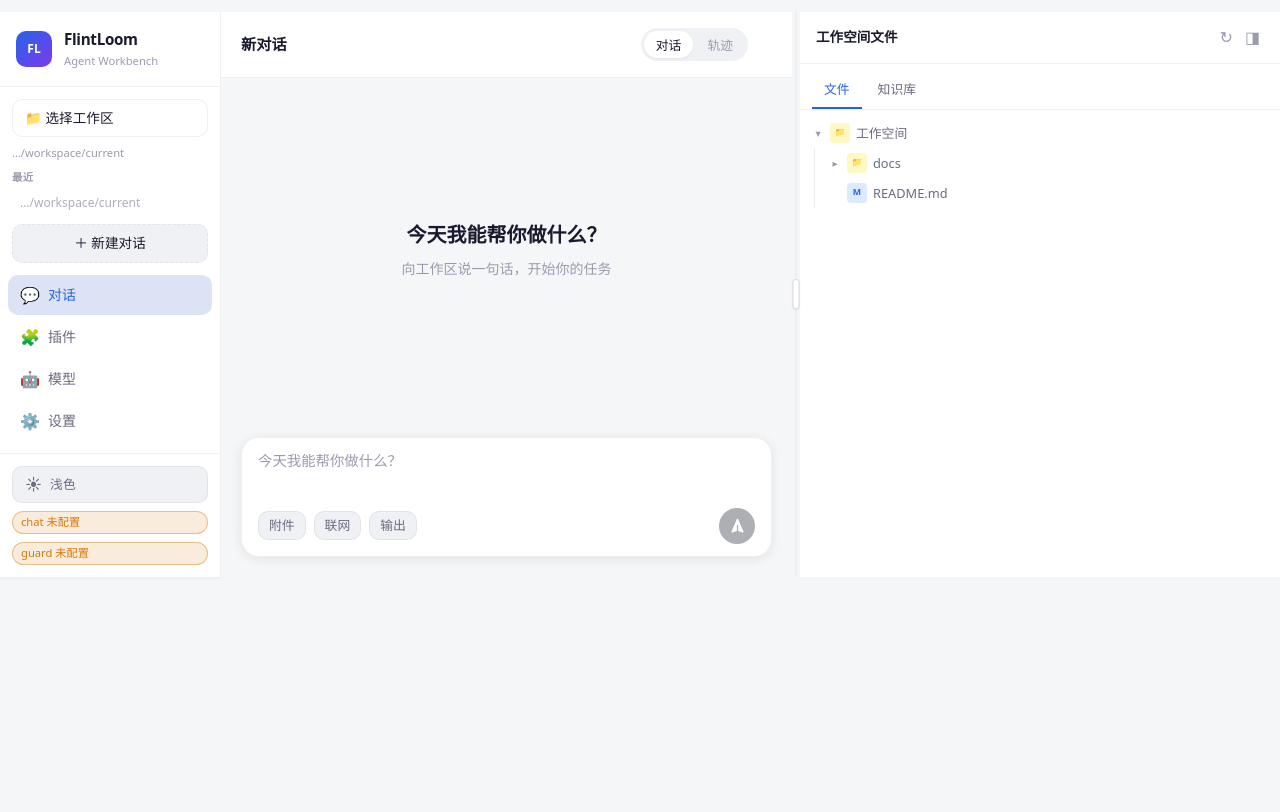
Test: App › shows folder context menu with move on right-click
The width and height of the screenshot is (1280, 812).
Right-click the list item with class "file-label" at (835, 163), box [821,148,1276,178]
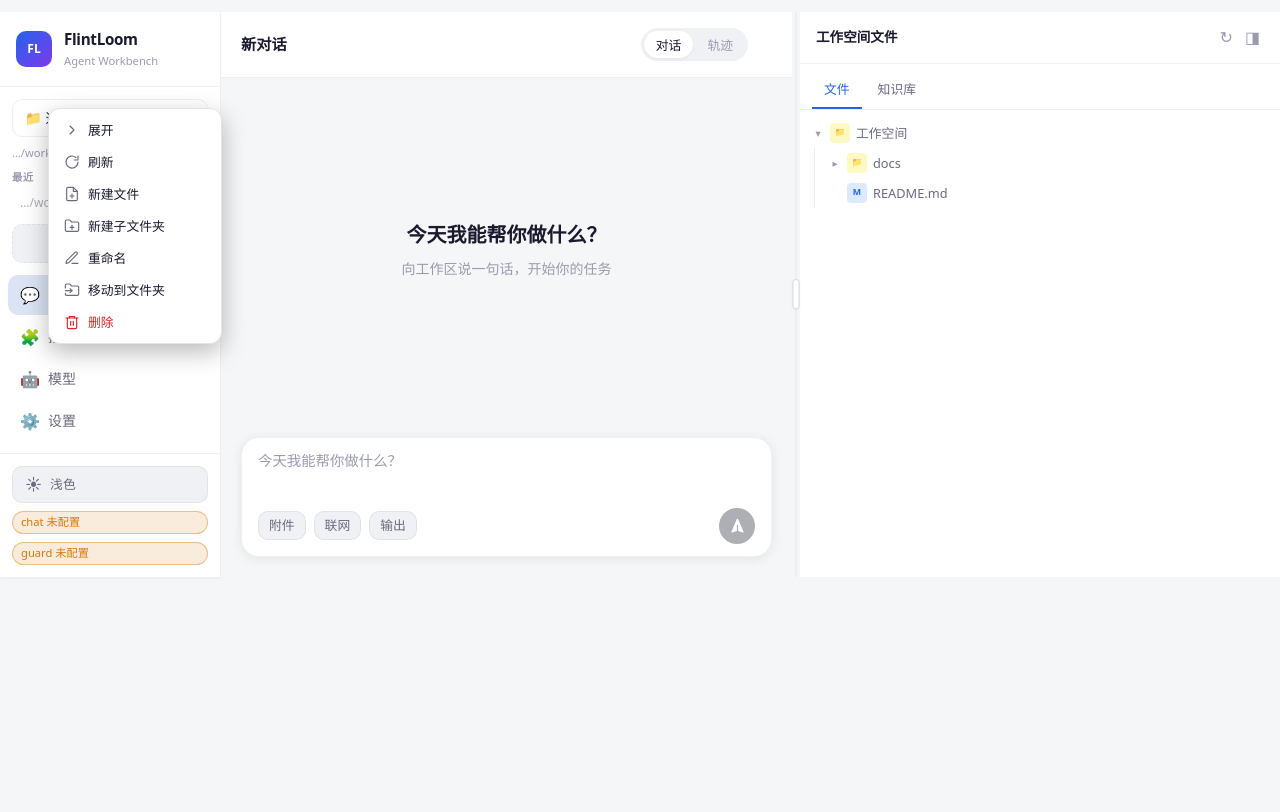
Check: the menu item "展开" is shown, box [55,115,215,145]
Check: the menu item "刷新" is shown, box [55,147,215,177]
Check: the menu item "新建文件" is shown, box [55,179,215,209]
